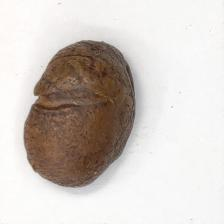NG: (29, 84, 113, 119), (54, 38, 112, 68)
